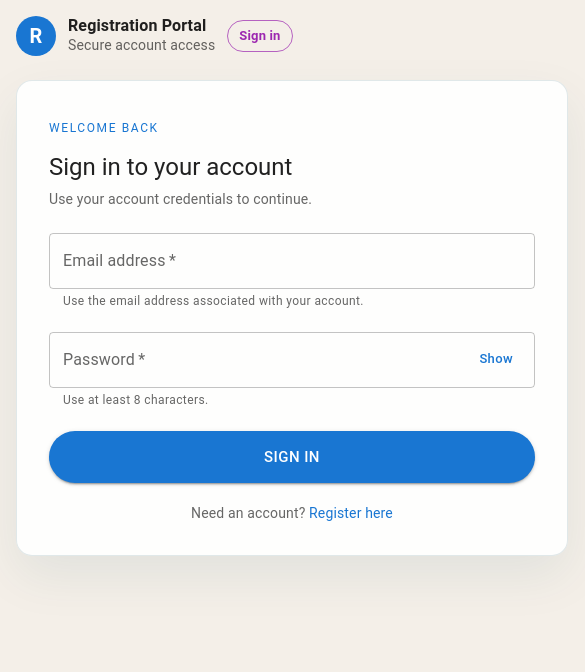
LoginPage › shows accessible validation messages before submitting invalid credentials
The image size is (585, 672).
Check: the heading "Sign in to your account" is shown, box [49,153,292,181]
Click the button "Sign in". click: click(292, 457)
box: [49,431,535,483]
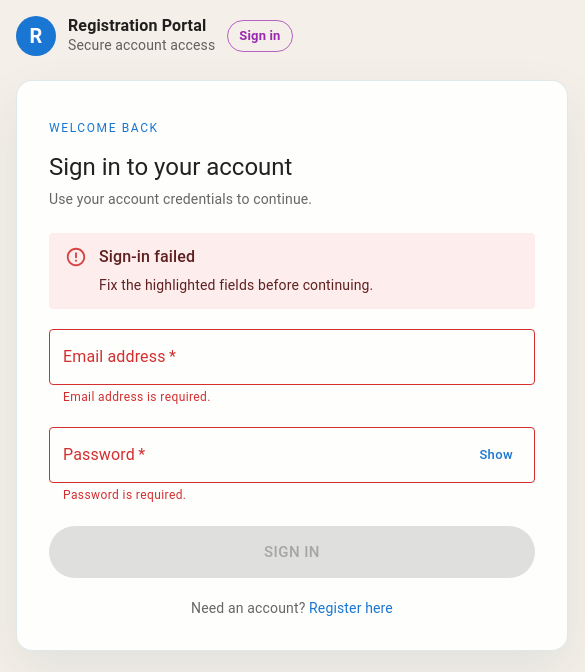
Check: the text "Email address is required." is shown, box [63,390,211,404]
Check: the text "Password is required." is shown, box [63,488,186,502]
